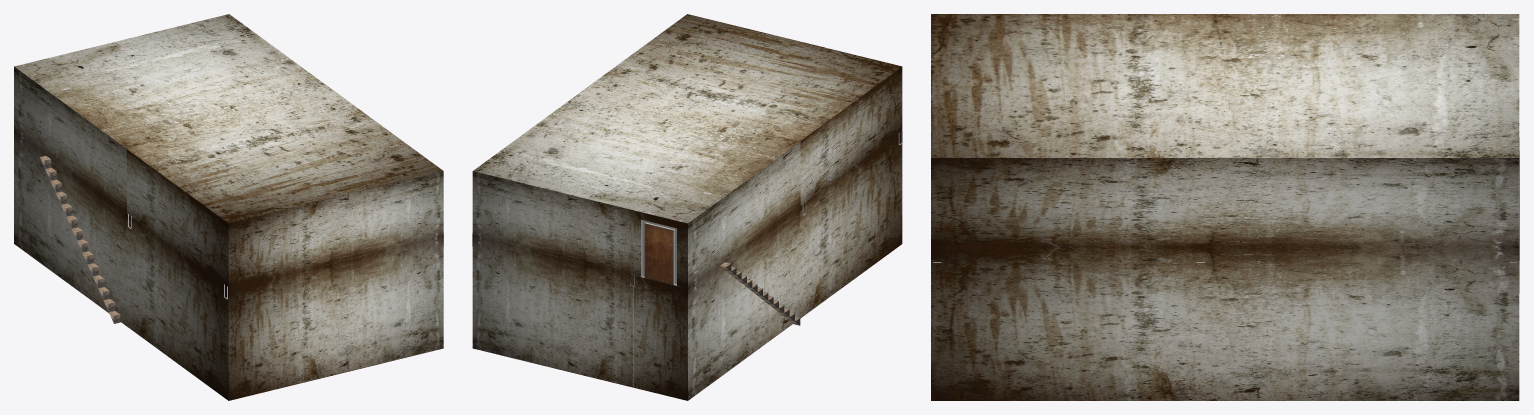
File: basement.fbx
The picture shows the model from 3 angles, left to right: view 1: azimuth 30°, elevation 25°; view 2: azimuth 150°, elevation 25°; view 3: azimuth 270°, elevation 25°; orthographic projection. The views are drawn at different scales.
Parts seen in each view (by area): view 1: body, stairs; view 2: body, stairs; view 3: body.
Boxes of the visible parts, left/top/right/bottom form: body: left=14, top=14, right=443, bottom=400; stairs: left=40, top=155, right=120, bottom=323; body: left=472, top=14, right=902, bottom=400; stairs: left=720, top=262, right=800, bottom=325; body: left=931, top=14, right=1519, bottom=400.
Bounding box in the file's own units: 2066 × 1585 × 3460.
